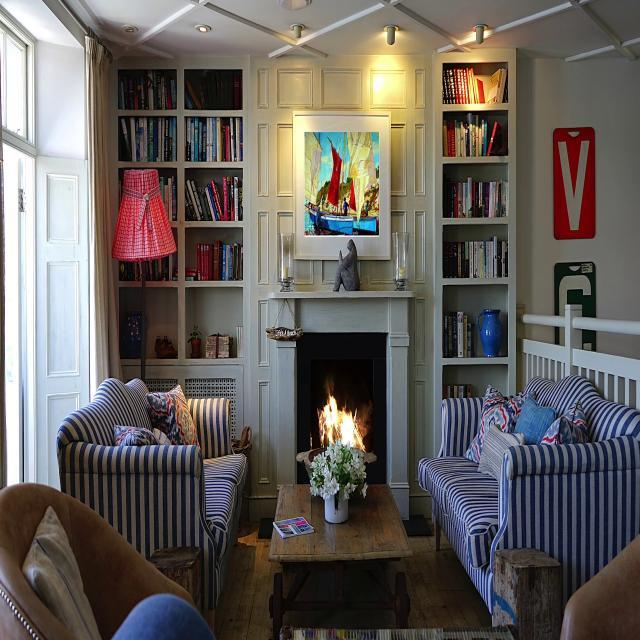Fire: (314, 386, 365, 454)
